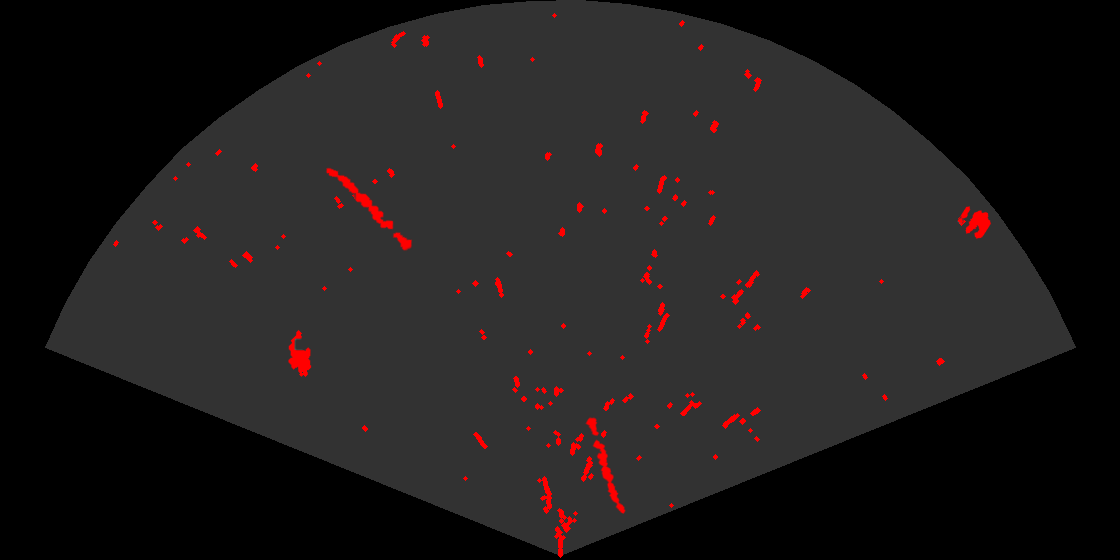AUV: (287, 328, 313, 379)
ball: (956, 205, 993, 240)
chain: (324, 166, 414, 252), (584, 415, 627, 515)
